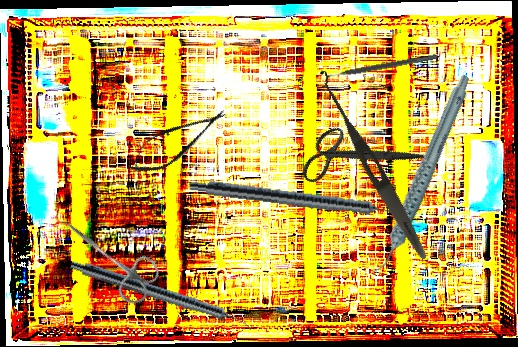Dressing Forceps: (315, 77, 433, 263)
Fixation Ring: (318, 47, 440, 89)
Handpiece: (334, 73, 507, 277), (68, 257, 255, 334), (187, 177, 412, 225)
Iris Scissors: (289, 92, 428, 220), (47, 202, 167, 310)
Micro Scissor: (121, 97, 235, 184)
